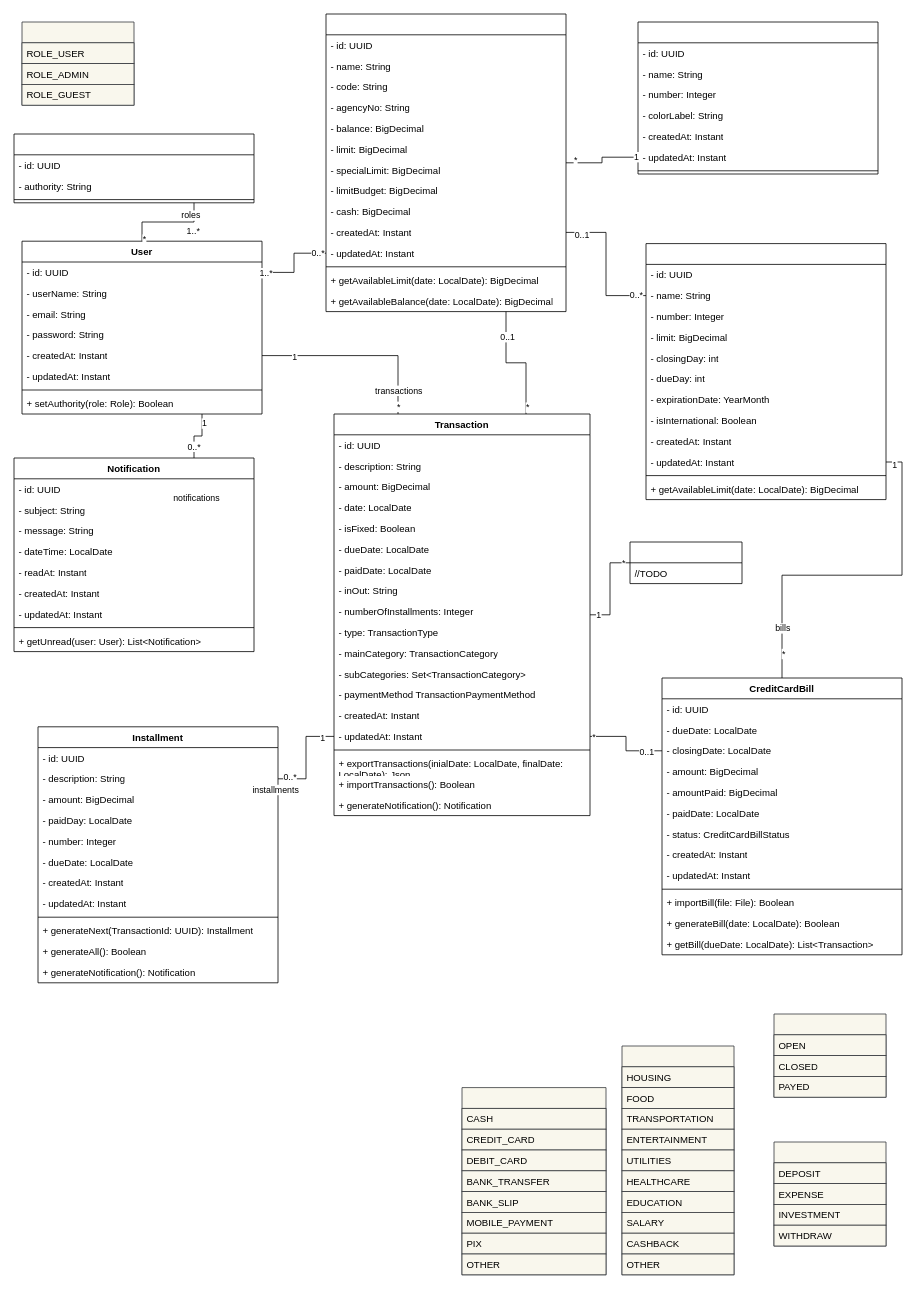
The diagram is 917 pixels wide and 1291 high, and some of its shapes have lost their labels. Here are the shapes that lost their labels. From the top down, the box of each, then its label:
(21, 21, 134, 105): <<Enum>> RoleAuthority
(637, 21, 878, 174): Bank
(13, 133, 254, 203): Role
(325, 13, 566, 312): Account
(645, 243, 886, 500): CreditCard
(629, 541, 742, 584): TransactionHistory
(773, 1013, 886, 1097): <<Enum>> CreditCardBillStatus
(621, 1045, 734, 1275): <<Enum>> TransactionCategory
(461, 1087, 606, 1275): <<Enum>> TransactionPaymentMethod
(773, 1141, 886, 1246): <<Enum>> TransactionType
